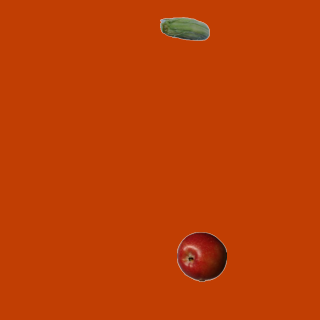Apple Braeburn: (176, 231, 226, 281)
Corn Husk: (159, 5, 209, 55)
